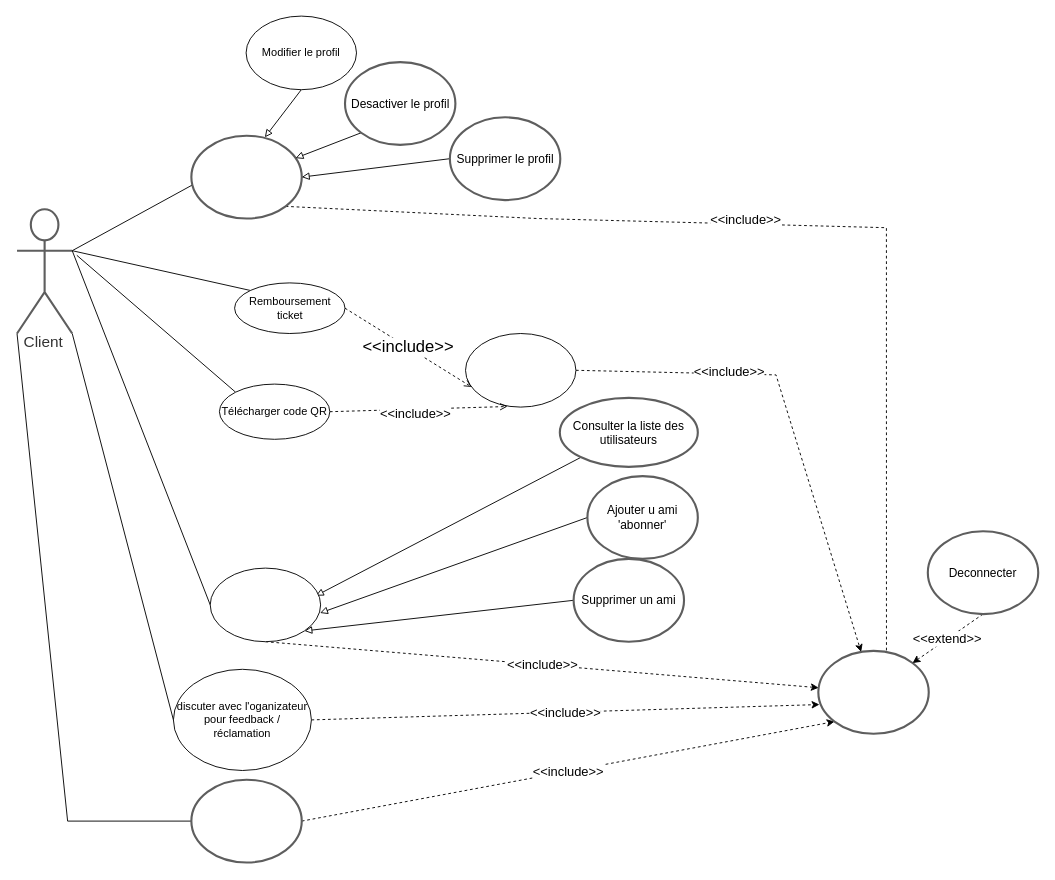
Image size: 1055x880. Some labels were removed from this diagram. The shapes that lost their labels are listed below. From the top down, each one's box as (x1, y1, x2, y2) in pixels, then its label:
(190, 134, 302, 219): Gerer le profil
(465, 333, 576, 407): Reserver un evenement
(209, 567, 321, 642): Chercher des utilisateur
(817, 649, 929, 734): S'authentifier
(190, 778, 302, 863): Consulter liste ludification
